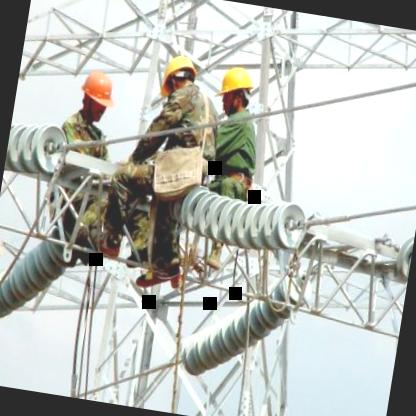helmet: (213, 61, 258, 120), (75, 65, 118, 124), (158, 51, 202, 102)
